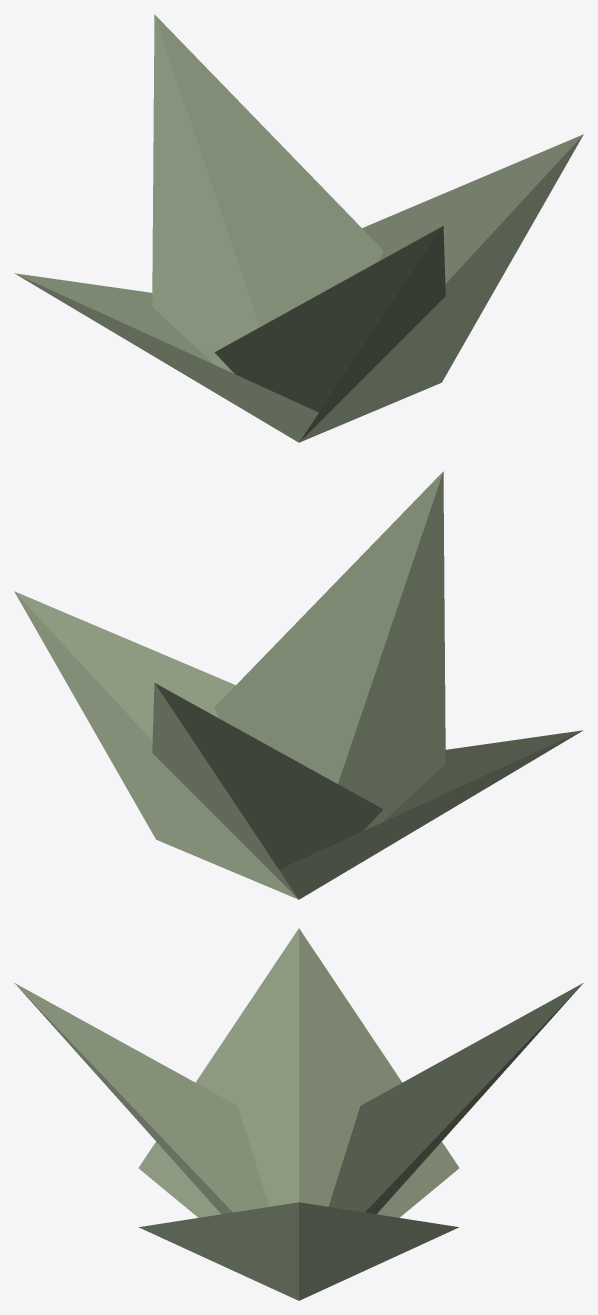
Rendered from plant_bushSmall.glb.
3 views of the same model, one above another, from view 1: azimuth 30°, elevation 25°; view 2: azimuth 150°, elevation 25°; view 3: azimuth 270°, elevation 25° (orthographic).
Visible parts, largest first — view 1: plant_bushSmall; view 2: plant_bushSmall; view 3: plant_bushSmall.
Part boxes in pixels (<box>): plant_bushSmall: <box>15,14,583,442</box>; plant_bushSmall: <box>14,471,582,899</box>; plant_bushSmall: <box>14,928,583,1300</box>.
Bounding box in the file's own units: 0.383 × 0.2073 × 0.3363.
